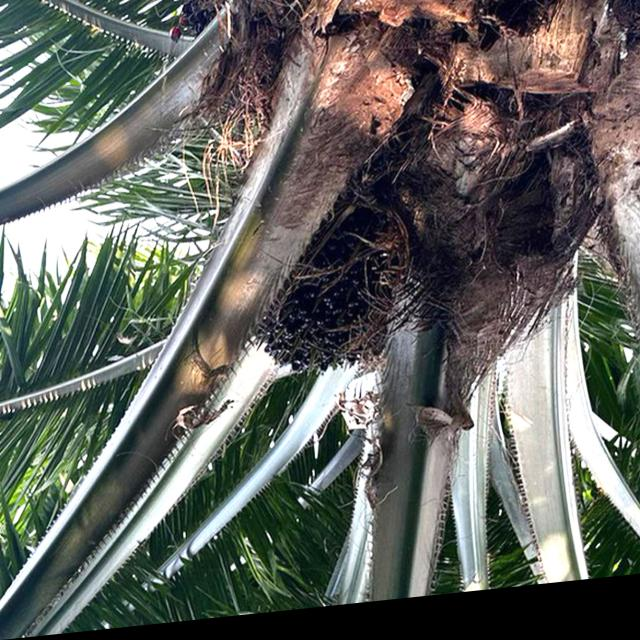ripe: (248, 231, 397, 401)
